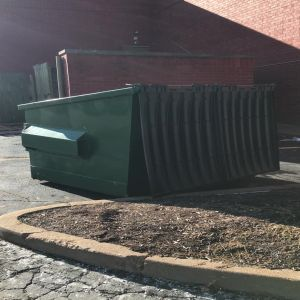Dumpster: (16, 81, 282, 187)
